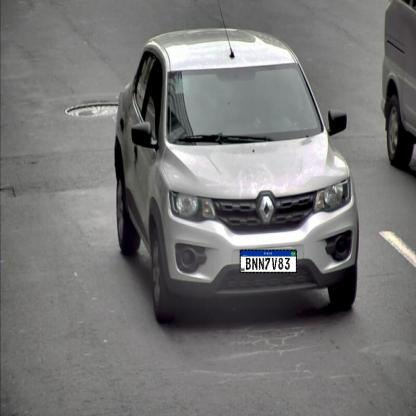PlacaM: (240, 250, 297, 273)
